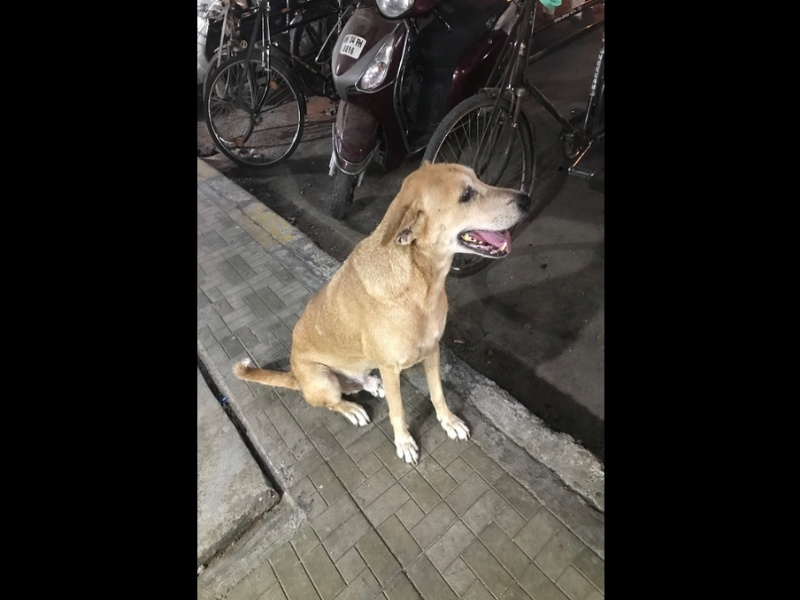dog: (229, 156, 534, 469)
